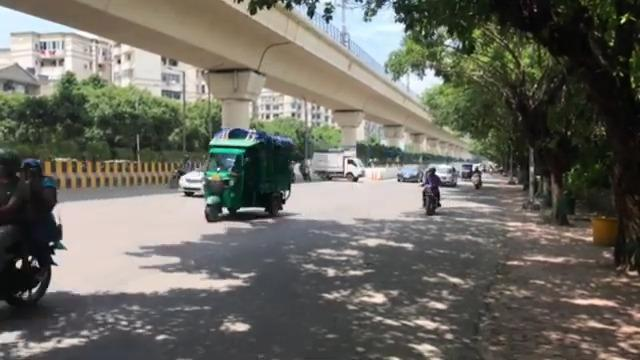Auto: (202, 126, 296, 221)
Bike: (0, 144, 67, 307), (420, 165, 443, 216), (470, 161, 483, 189)
Truck: (310, 150, 364, 181)
